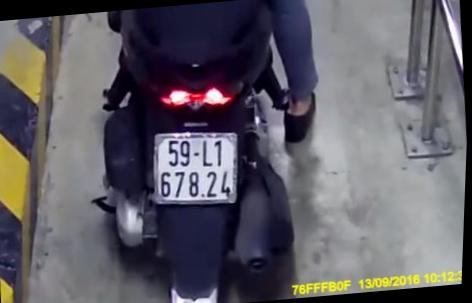LP: (149, 125, 246, 212)
